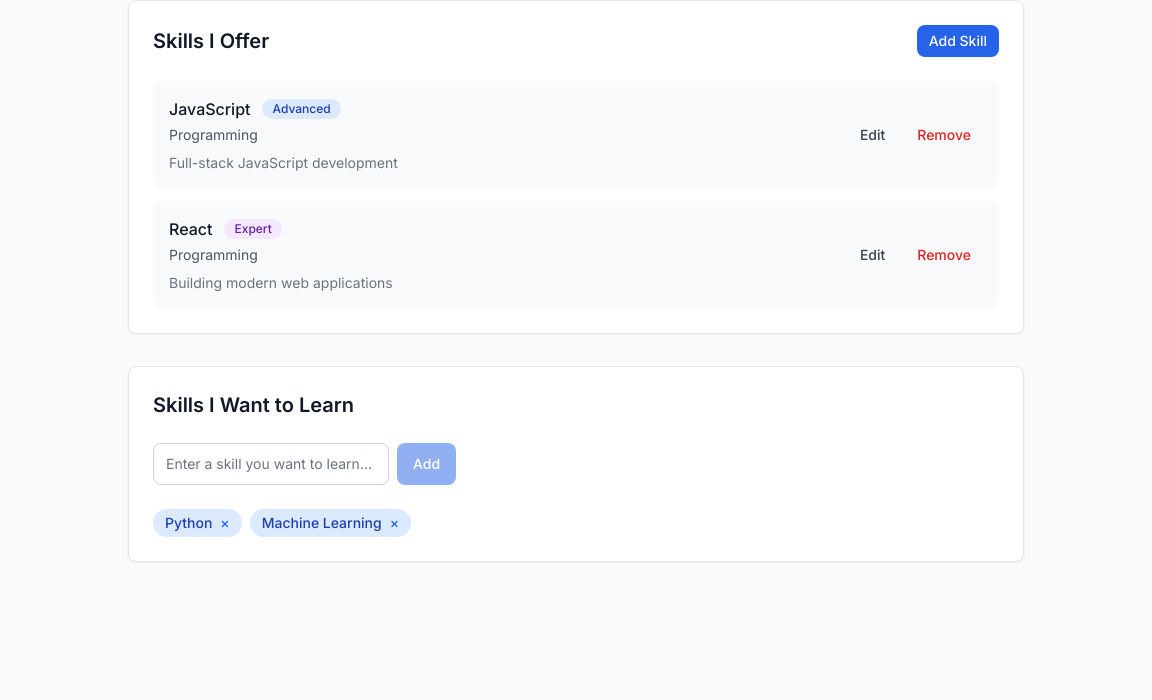
SkillsManager › opens edit form when edit button is clicked
The width and height of the screenshot is (1152, 700).
What coordinates should you click on to do the following:
click the 1st button "Edit"
I would click on:
 (873, 135)
Its box is x1=848 y1=119 x2=897 y2=151.
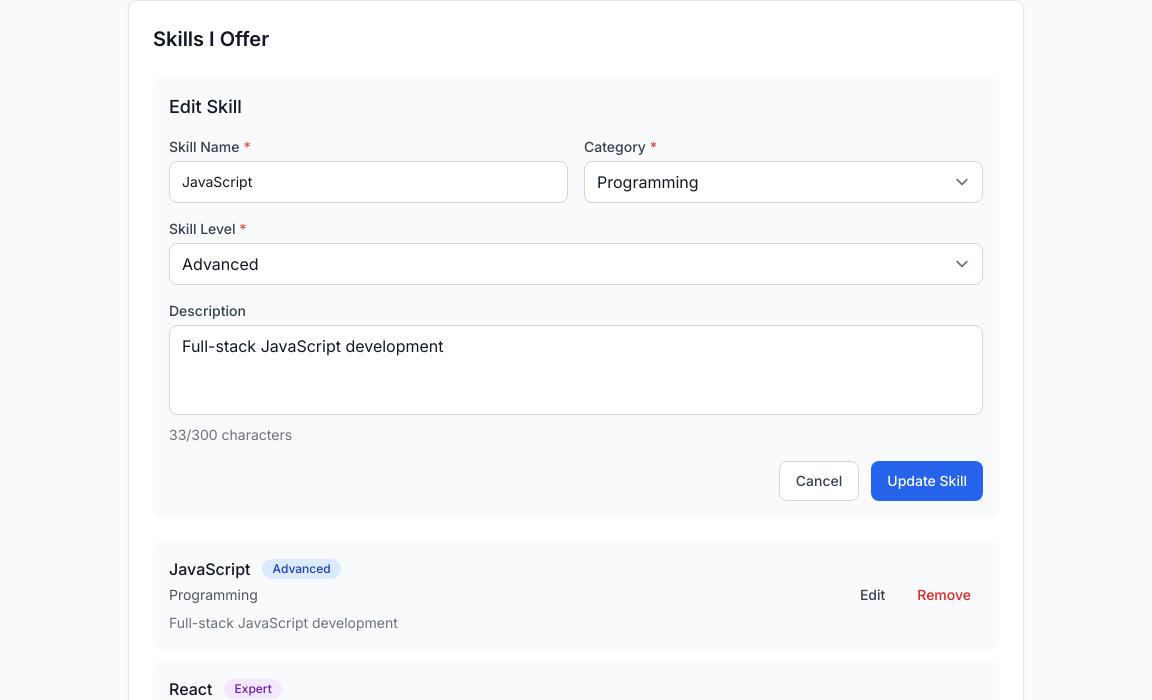
Expected: the heading "Edit Skill" is shown, x1=169 y1=96 x2=242 y2=117
Expected: the field showing "JavaScript" is shown, x1=169 y1=161 x2=568 y2=203
